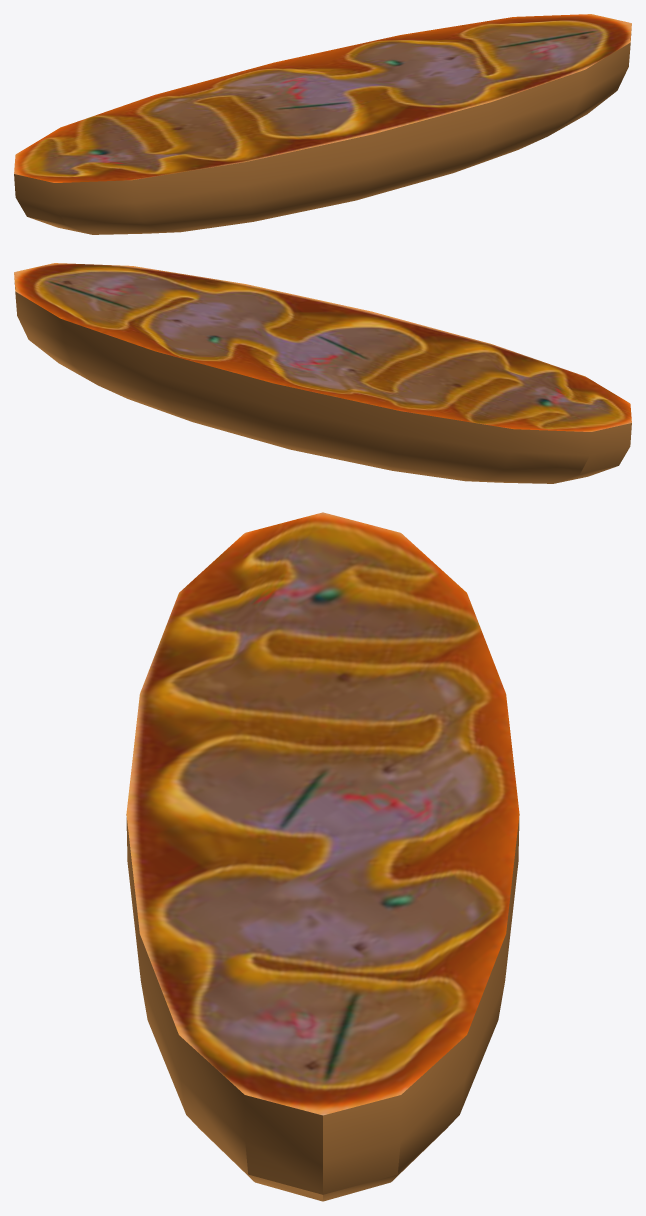
File: mitochondrion.fbx
3 renders of one model, top to bottom at view 1: azimuth 30°, elevation 25°; view 2: azimuth 150°, elevation 25°; view 3: azimuth 270°, elevation 25°, orthographic. The views are drawn at different scales.
Parts seen in each view (by area): view 1: Cube; view 2: Cube; view 3: Cube.
Part boxes in pixels (x1,y1,x2,y2): Cube: (14, 14, 631, 234); Cube: (14, 263, 631, 483); Cube: (126, 512, 519, 1201).
Bounding box in the file's own units: 666 × 91.98 × 183.
Materials: 1 (1 with a texture image).
